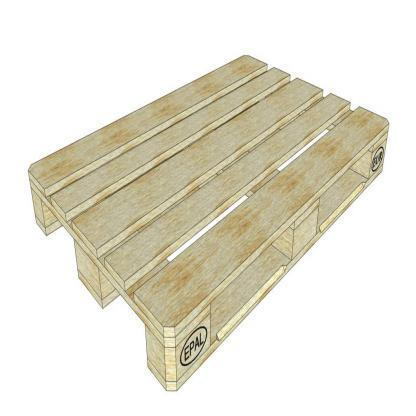pallet: (29, 56, 390, 391)
